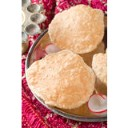poori: (28, 50, 93, 110), (48, 4, 104, 51)
